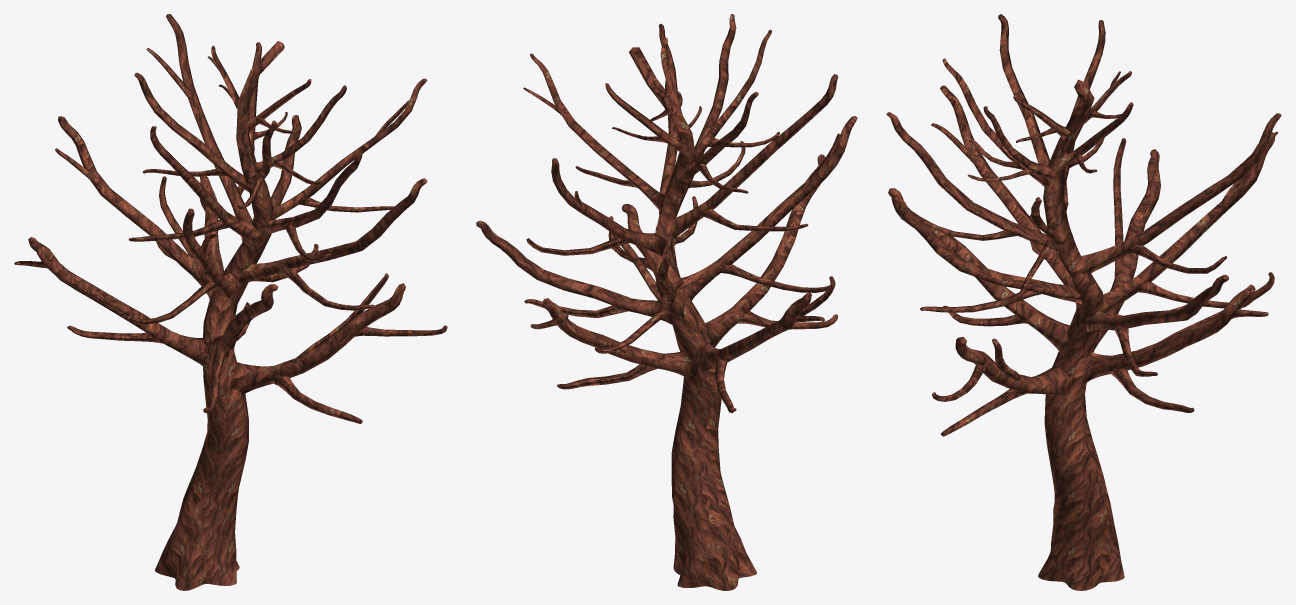
The model's file is dtree_dead_1.glb.
3 views of the same model, side by side, from view 1: azimuth 30°, elevation 25°; view 2: azimuth 150°, elevation 25°; view 3: azimuth 270°, elevation 25° (orthographic). The views are drawn at different scales.
Parts seen in each view (by area): view 1: model; view 2: model; view 3: model.
Part boxes in pixels (left/top/right/bottom): model: left=14, top=14, right=447, bottom=590; model: left=476, top=14, right=857, bottom=590; model: left=886, top=14, right=1281, bottom=590.
Size of the model in its own units: 5.08 by 7.02 by 4.74.
Materials: 1 (1 with a texture image).
